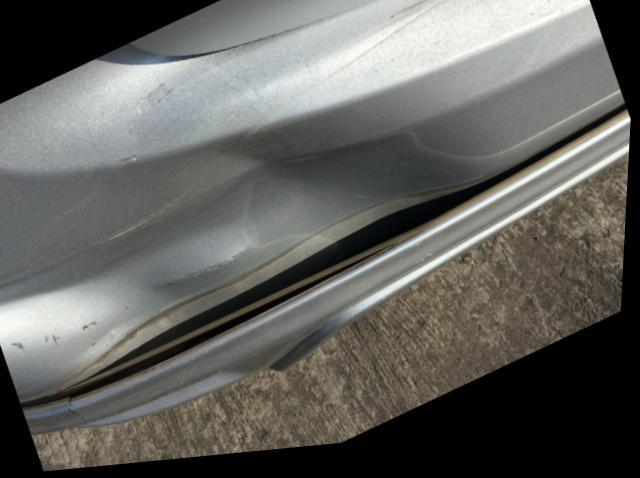crack: (72, 399, 93, 426)
dent: (0, 137, 467, 399)
